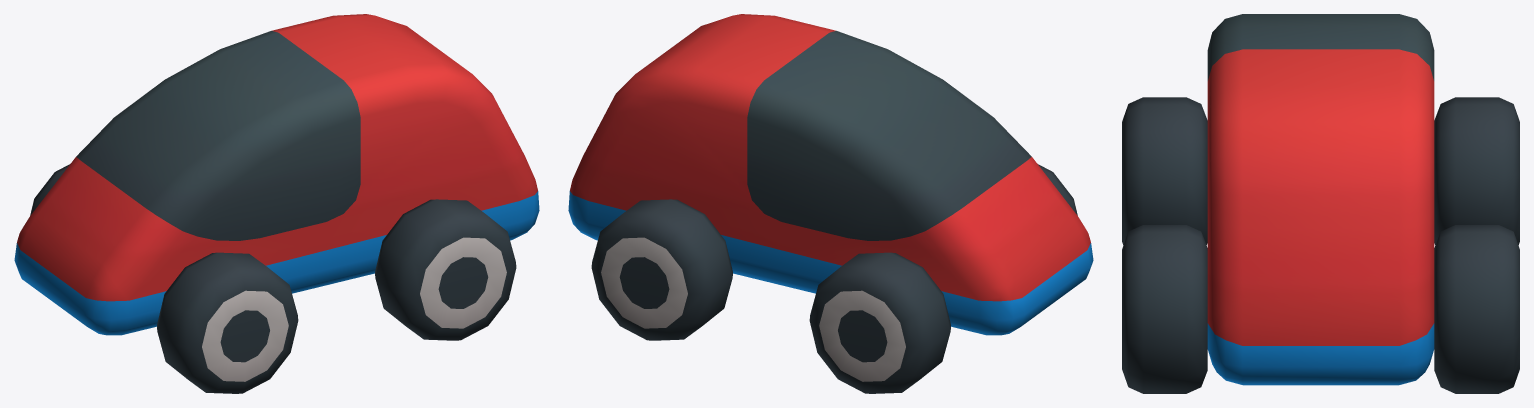
The model's file is Toy_02.glb.
3 renders of one model, left to right at view 1: azimuth 30°, elevation 25°; view 2: azimuth 150°, elevation 25°; view 3: azimuth 270°, elevation 25°, orthographic. The views are drawn at different scales.
Parts seen in each view (by area): view 1: Toy_02; view 2: Toy_02; view 3: Toy_02.
Boxes of the visible parts, x1=… form: Toy_02: x1=14, y1=14, x2=539, y2=393; Toy_02: x1=568, y1=14, x2=1093, y2=393; Toy_02: x1=1122, y1=14, x2=1519, y2=393.
Bounding box in the file's own units: 0.2352 × 0.1224 × 0.149.
1 material, 1 textured.
